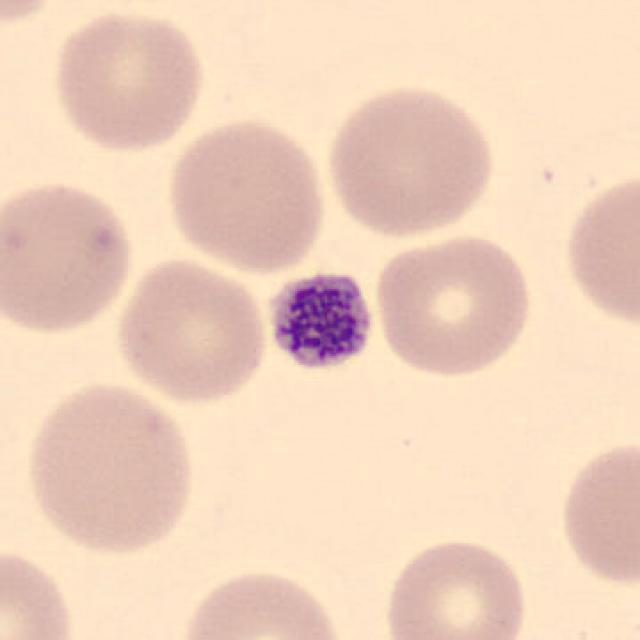Platelets: (261, 266, 379, 376)
RBC: (19, 377, 201, 559), (320, 80, 500, 242), (162, 113, 332, 275), (370, 229, 538, 381), (110, 254, 274, 407), (46, 5, 210, 155), (2, 174, 138, 338), (378, 532, 532, 640), (174, 562, 352, 640), (554, 431, 640, 592), (558, 166, 640, 331), (0, 541, 82, 640), (0, 0, 69, 35)
